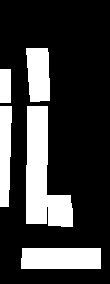parkingspot: (26, 106, 47, 223), (21, 248, 100, 268), (26, 48, 49, 101), (0, 106, 11, 206), (48, 208, 72, 226), (46, 195, 71, 210), (0, 69, 10, 102)
